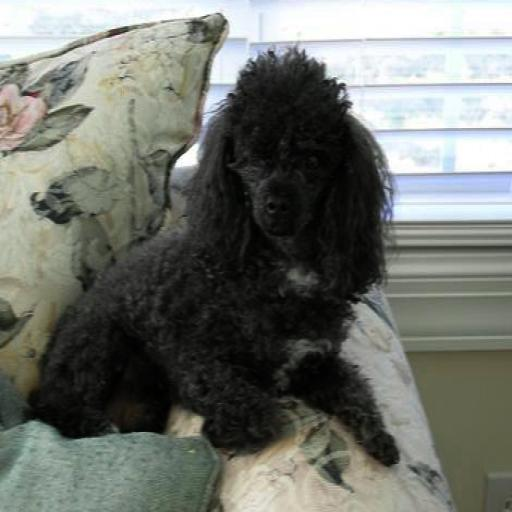dog_face: (200, 55, 390, 275)
